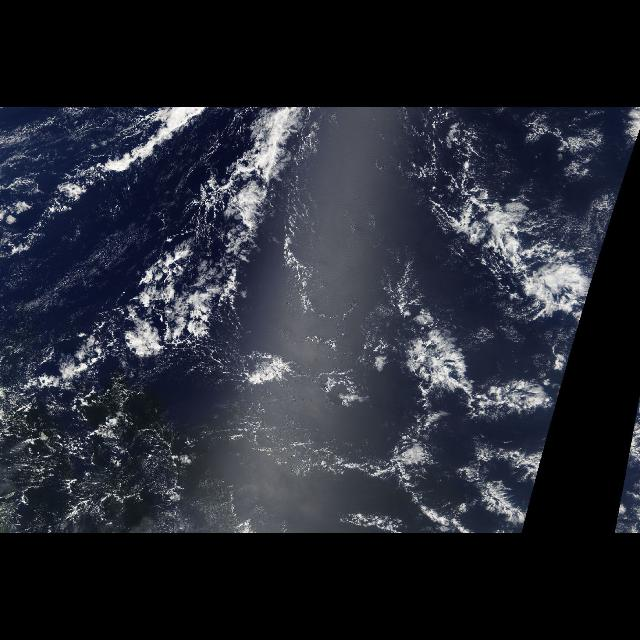Fish: (22, 108, 352, 378), (396, 166, 590, 534)
Gravel: (6, 346, 542, 530)
